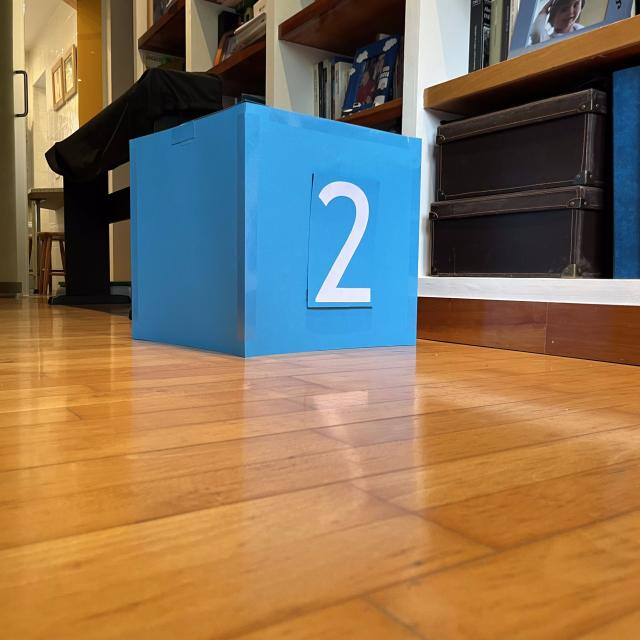box: (125, 98, 424, 361)
